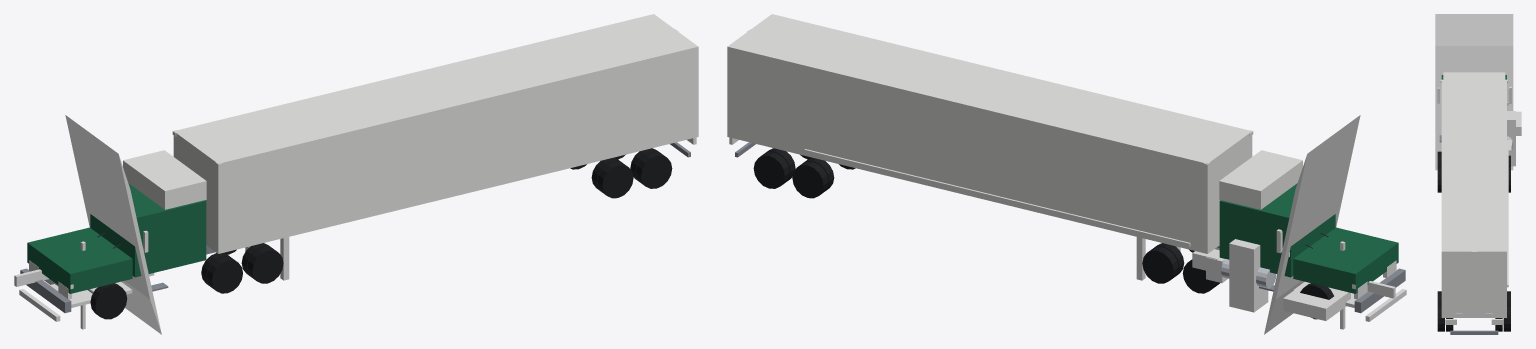
Rendered from truck.glb.
3 views of the same model, side by side, from view 1: azimuth 30°, elevation 25°; view 2: azimuth 150°, elevation 25°; view 3: azimuth 270°, elevation 25° (orthographic). The views are drawn at different scales.
Parts seen in each view (by area): view 1: body_trailer, col_windshield, body_cab, body_hood, body_roof_fairing, wheel_steer_r, wheel_trl0_r_o, wheel_drive0_r_o, wheel_drive1_r_o, wheel_trl1_r_o, body_bumper; view 2: body_trailer, col_windshield, body_hood, body_cab, body_roof_fairing, col_fuel_tank, col_dot_tape, col_front_tire, wheel_trl0_l_o, wheel_drive1_l_o, wheel_trl1_l_o, body_bumper (+2 smaller); view 3: body_trailer, col_windshield, body_roof_fairing, col_fuel_tank, col_dot_tape, body_trailer_underride, wheel_trl1_r_o, wheel_trl1_l_o, col_front_tire, wheel_drive1_r_o, wheel_drive1_l_o.
Part boxes in pixels (left/top/right/bottom): body_trailer: left=173, top=14, right=698, bottom=253; col_windshield: left=65, top=115, right=161, bottom=334; body_cab: left=90, top=183, right=206, bottom=277; body_hood: left=27, top=227, right=132, bottom=293; body_roof_fairing: left=123, top=150, right=206, bottom=209; wheel_steer_r: left=90, top=283, right=127, bottom=319; wheel_trl0_r_o: left=597, top=161, right=633, bottom=198; wheel_drive0_r_o: left=207, top=256, right=242, bottom=293; wheel_drive1_r_o: left=247, top=247, right=283, bottom=283; wheel_trl1_r_o: left=636, top=152, right=672, bottom=188; body_bumper: left=20, top=268, right=71, bottom=313; body_trailer: left=727, top=14, right=1252, bottom=253; col_windshield: left=1264, top=115, right=1360, bottom=334; body_hood: left=1293, top=227, right=1398, bottom=293; body_cab: left=1219, top=183, right=1335, bottom=277; body_roof_fairing: left=1219, top=150, right=1302, bottom=209; col_fuel_tank: left=1229, top=239, right=1268, bottom=312; col_dot_tape: left=804, top=149, right=1190, bottom=246; col_front_tire: left=1283, top=282, right=1350, bottom=320; wheel_trl0_l_o: left=792, top=161, right=828, bottom=198; wheel_drive1_l_o: left=1142, top=247, right=1178, bottom=283; wheel_trl1_l_o: left=753, top=152, right=789, bottom=188; body_bumper: left=1354, top=268, right=1405, bottom=313; body_trailer: left=1441, top=79, right=1506, bottom=317; col_windshield: left=1435, top=14, right=1513, bottom=170; body_roof_fairing: left=1443, top=72, right=1505, bottom=79; col_fuel_tank: left=1507, top=111, right=1515, bottom=166; col_dot_tape: left=1507, top=147, right=1508, bottom=287; body_trailer_underride: left=1450, top=330, right=1498, bottom=334; wheel_trl1_r_o: left=1437, top=305, right=1444, bottom=331; wheel_trl1_l_o: left=1503, top=305, right=1510, bottom=331; col_front_tire: left=1516, top=111, right=1521, bottom=135; wheel_drive1_r_o: left=1437, top=166, right=1441, bottom=192; wheel_drive1_l_o: left=1508, top=166, right=1510, bottom=192.
Size of the model in its own units: 21.98 by 6.18 by 3.43.
